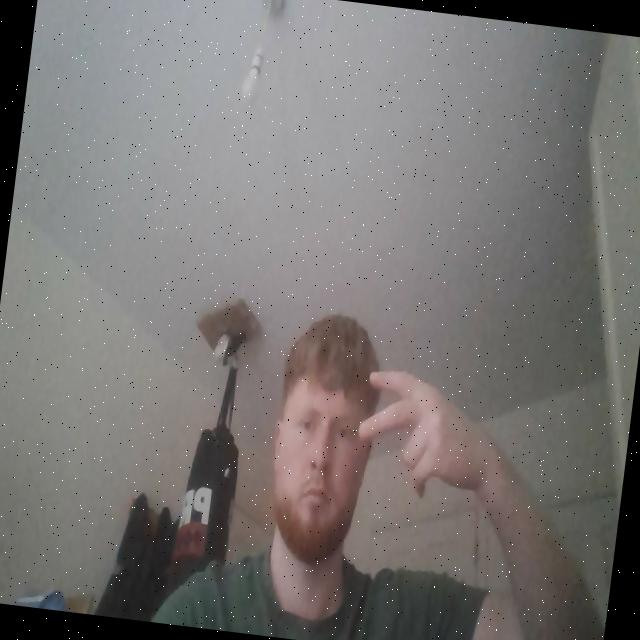scissors: (346, 364, 495, 512)
